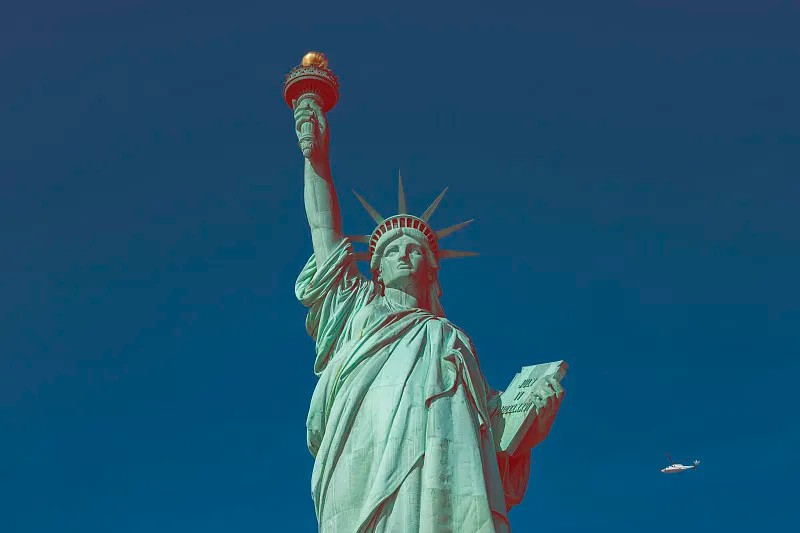SL: (283, 51, 570, 533)
